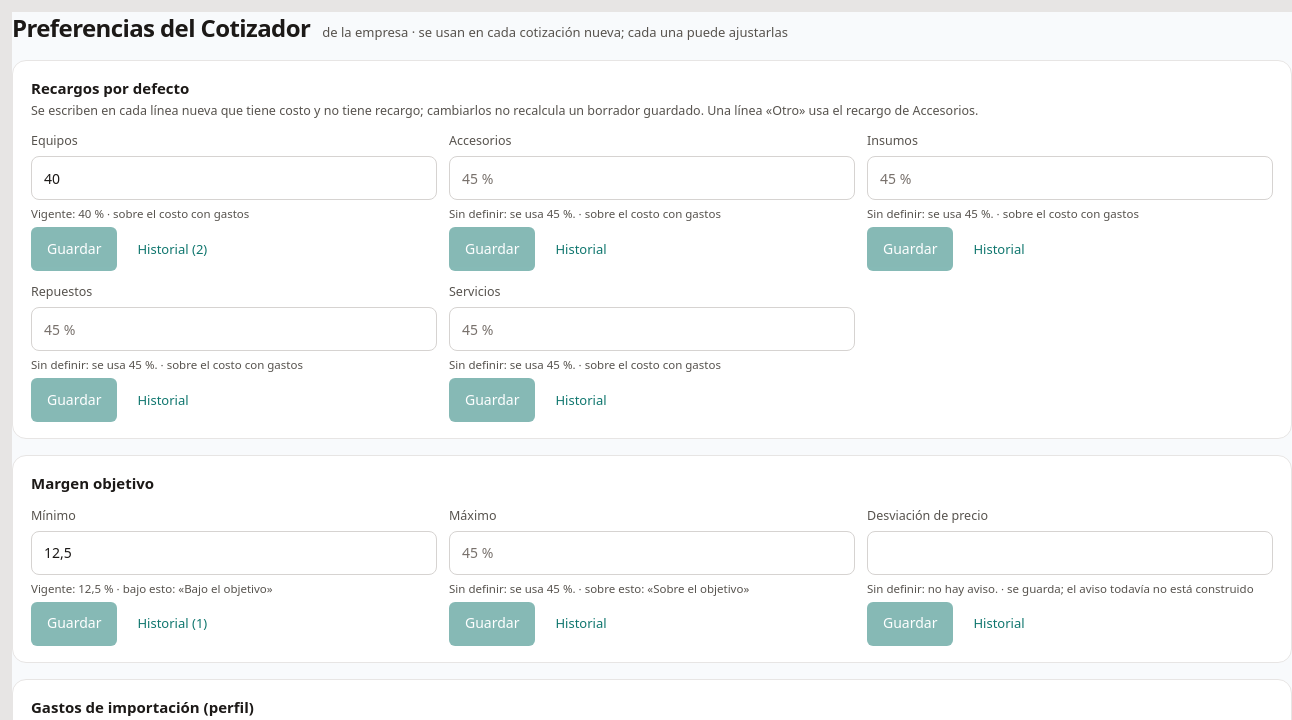
PreferencesPage — the current values › names what cannot be read instead of asking for a reason
Replace the text in the field labelled "Equipos" with "cuarenta" at x=234, y=178, box x1=31 y1=156 x2=437 y2=200
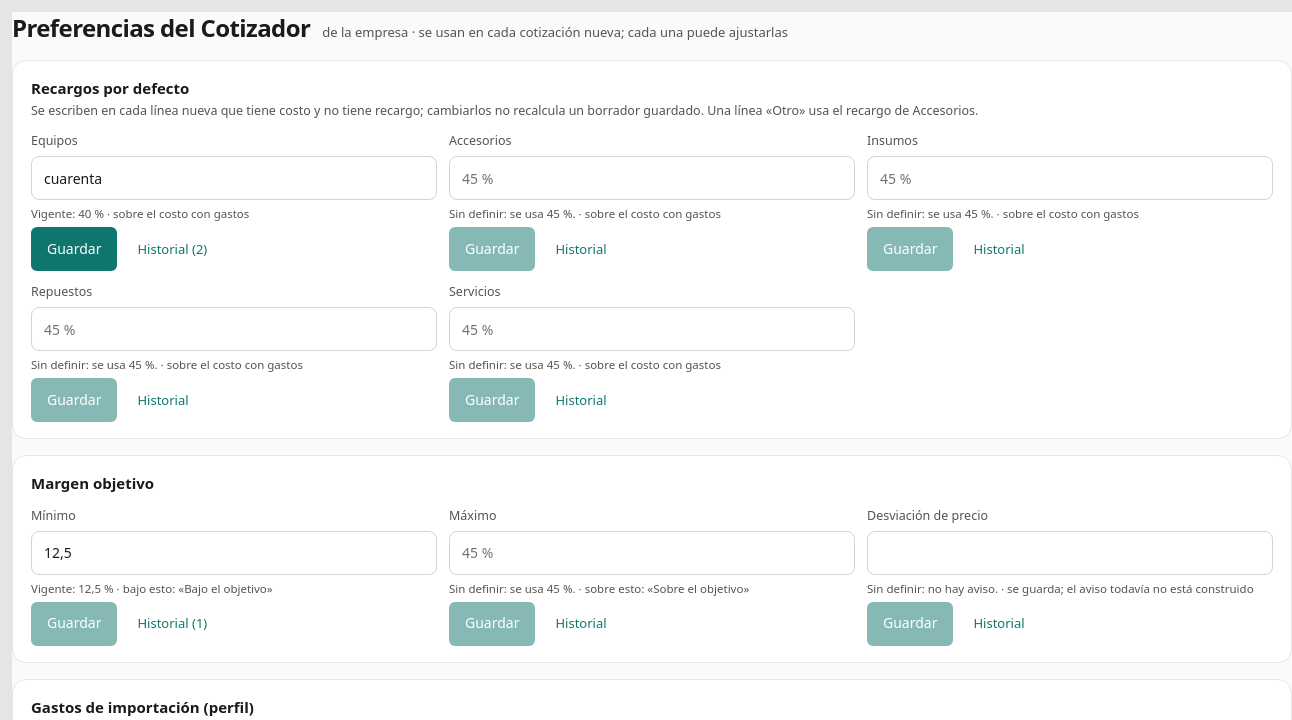
Click the button with aria-label "Guardar Equipos" at x=74, y=249, box x1=31 y1=227 x2=118 y2=271
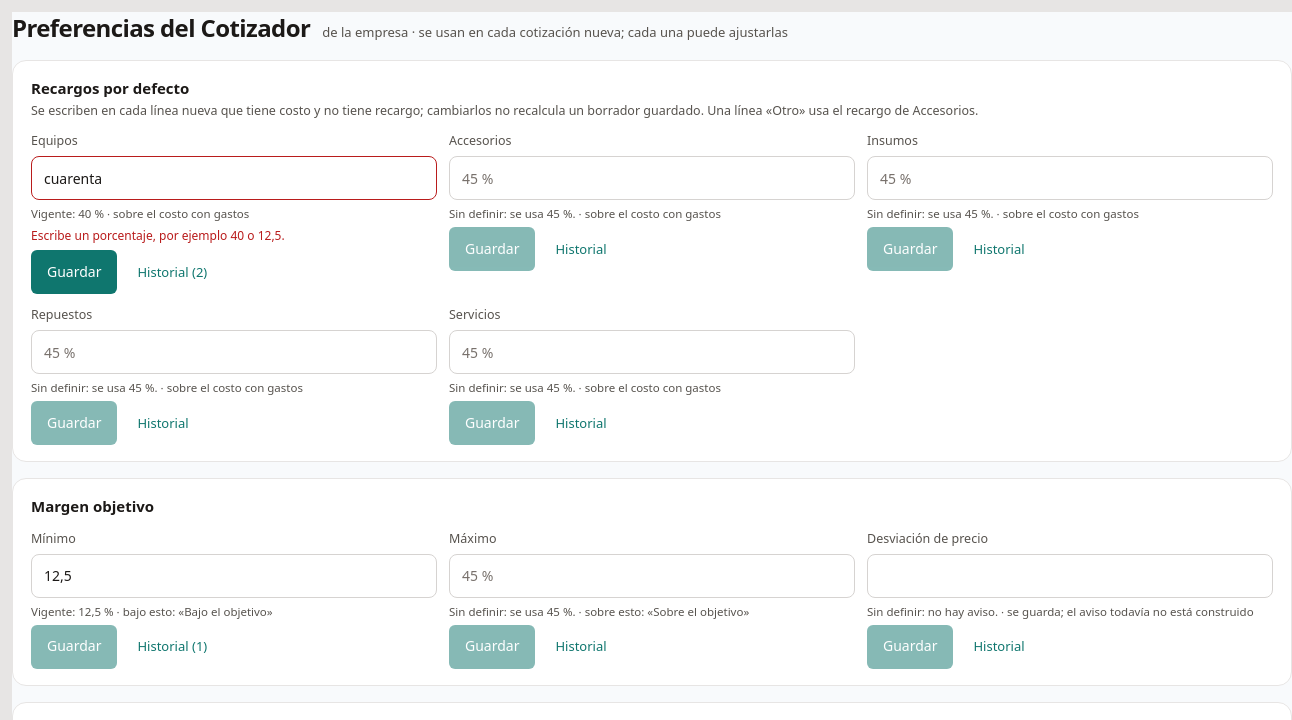
Now the message shows "Escribe un porcentaje", box x1=31 y1=227 x2=285 y2=244
